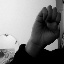e: (30, 4, 61, 47)
